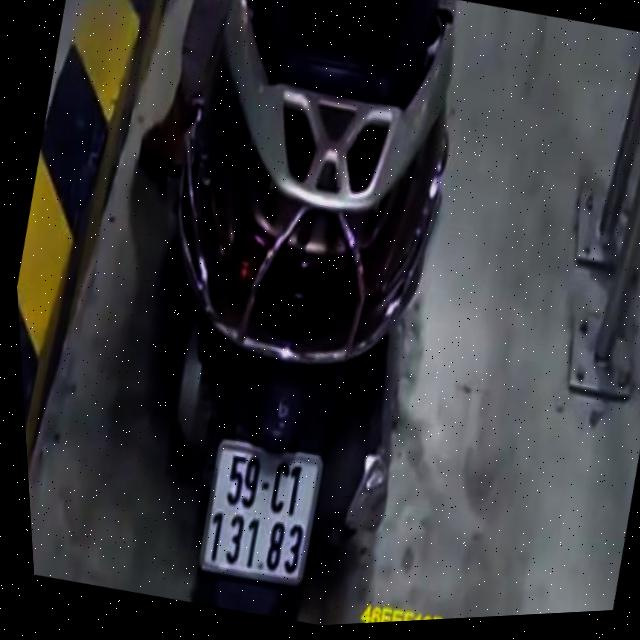motorcycle: (70, 0, 512, 636)
plate: (182, 427, 340, 597)
